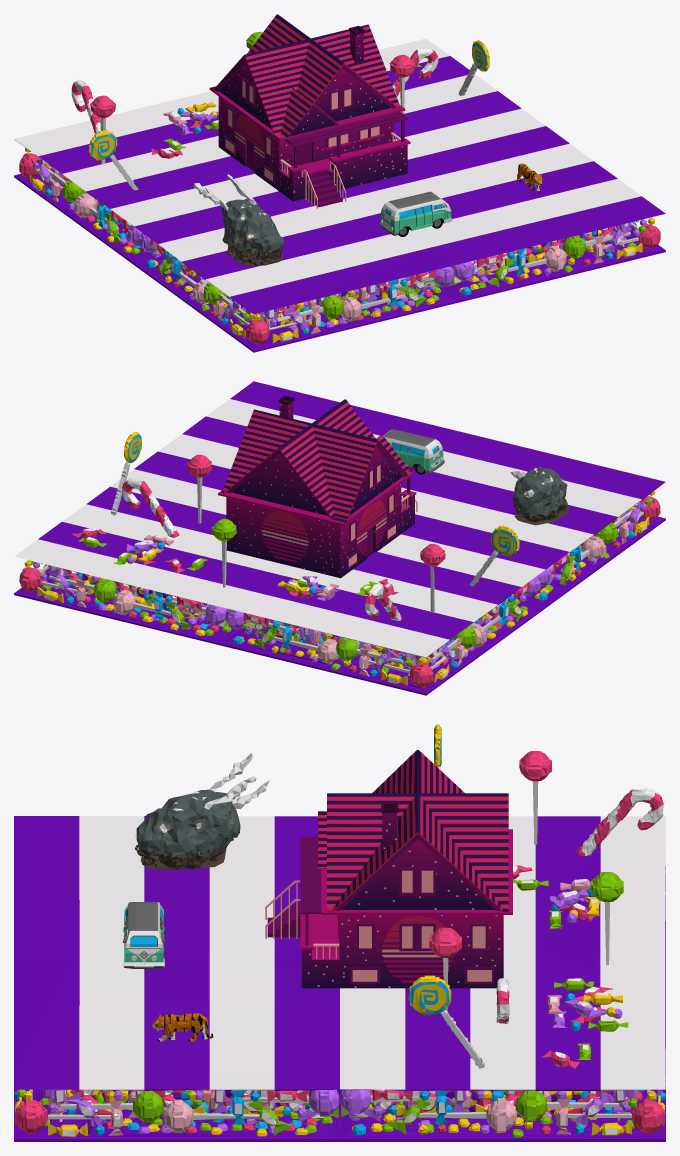
The picture shows the model from 3 angles, top to bottom: view 1: azimuth 30°, elevation 25°; view 2: azimuth 150°, elevation 25°; view 3: azimuth 270°, elevation 25°; orthographic projection. The views are drawn at different scales.
Visible parts, largest first — view 1: TERRAIN_CANDY, Cube.156, OBJRANDOM_METEORITE, VEHICLES_VAN; view 2: TERRAIN_CANDY, Cube.156, OBJRANDOM_METEORITE, VEHICLES_VAN; view 3: TERRAIN_CANDY, Cube.156, OBJRANDOM_METEORITE, VEHICLES_VAN, ANIMAL_TIGRE.
Part boxes in pixels (bbox=[...]): TERRAIN_CANDY: bbox=[14, 31, 665, 352]; Cube.156: bbox=[209, 14, 410, 208]; OBJRANDOM_METEORITE: bbox=[194, 174, 283, 265]; VEHICLES_VAN: bbox=[379, 191, 452, 236]; TERRAIN_CANDY: bbox=[14, 381, 665, 695]; Cube.156: bbox=[218, 395, 417, 578]; OBJRANDOM_METEORITE: bbox=[510, 467, 568, 525]; VEHICLES_VAN: bbox=[383, 429, 444, 474]; TERRAIN_CANDY: bbox=[14, 724, 665, 1141]; Cube.156: bbox=[265, 750, 512, 988]; OBJRANDOM_METEORITE: bbox=[135, 753, 269, 869]; VEHICLES_VAN: bbox=[122, 902, 165, 968]; ANIMAL_TIGRE: bbox=[151, 1013, 213, 1041].
Bounding box in the file's own units: 4059 × 1736 × 4000.
31 materials, 4 textured.
